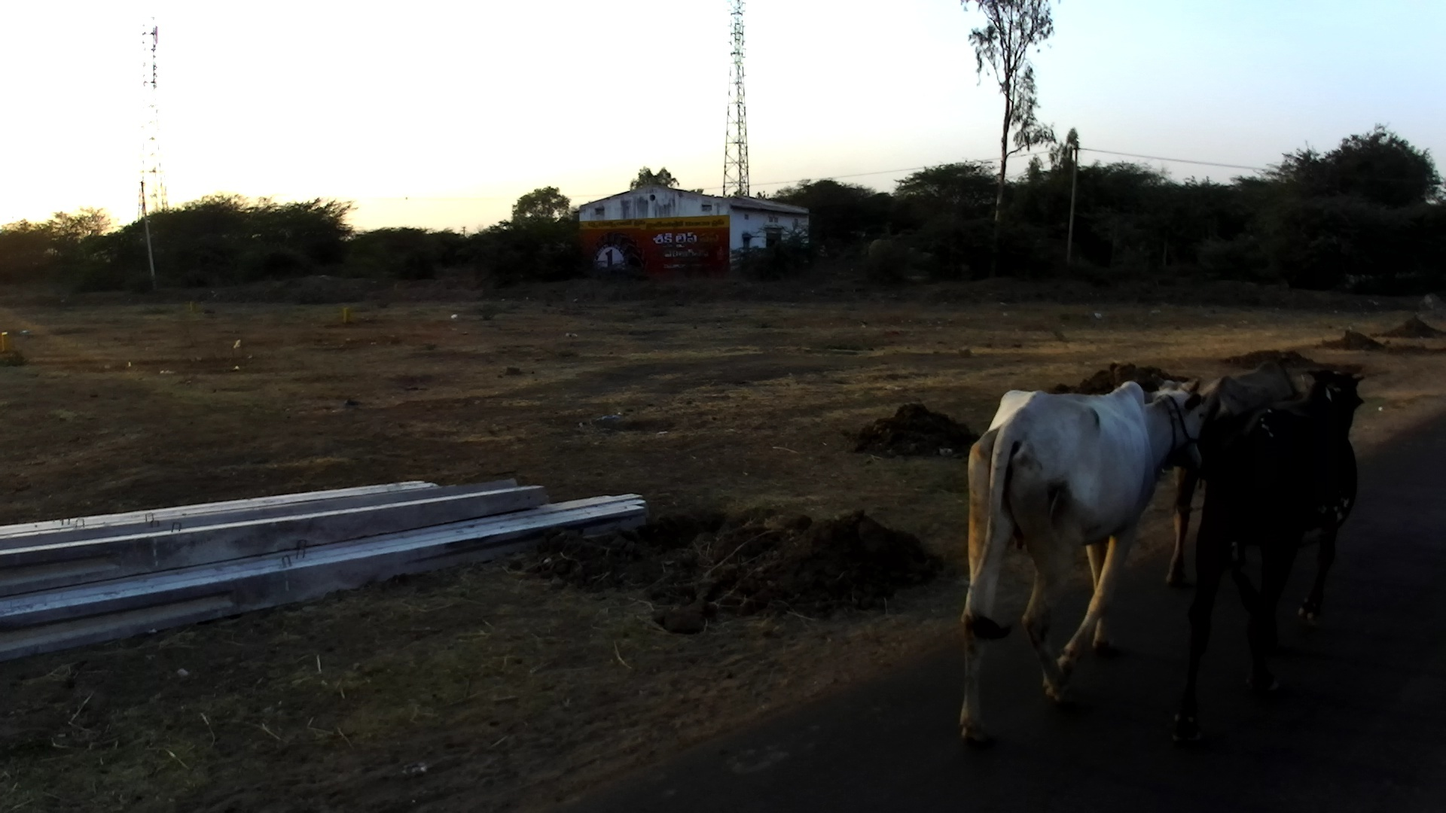animal: (959, 376, 1211, 750), (1159, 365, 1366, 801), (1164, 358, 1306, 589)
